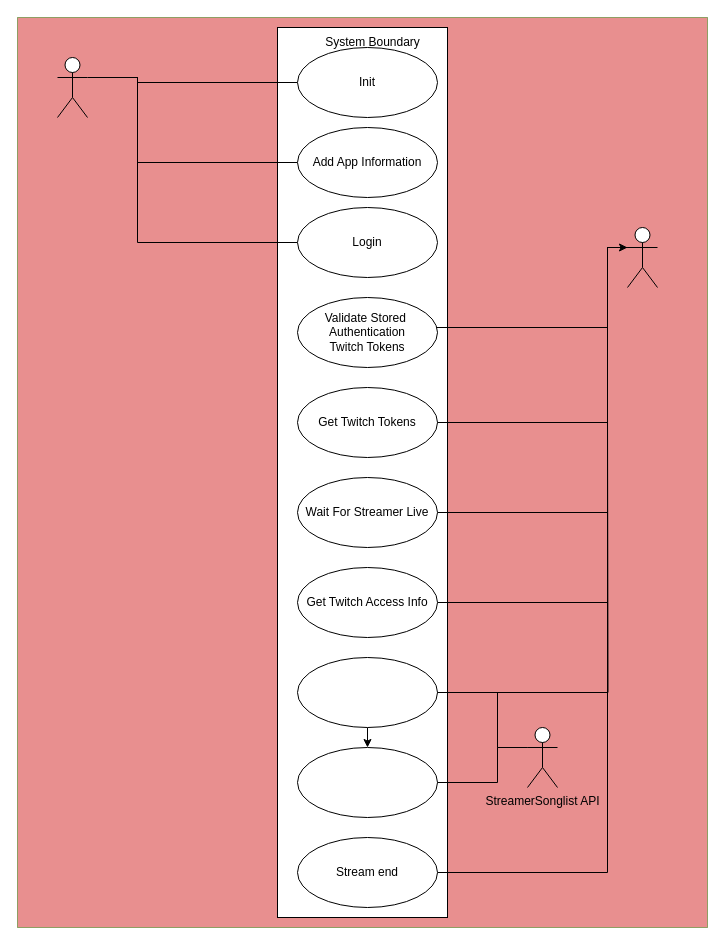
Image size: 725x945. Some labels were removed from this diagram. Here are the shapes that lost their labels. From the top down, the centre of each, then its label:
(x=72, y=87): Streamer
(x=642, y=257): Twitch API
(x=367, y=692): Song Changed
(x=367, y=782): Store Song/Timestamp
